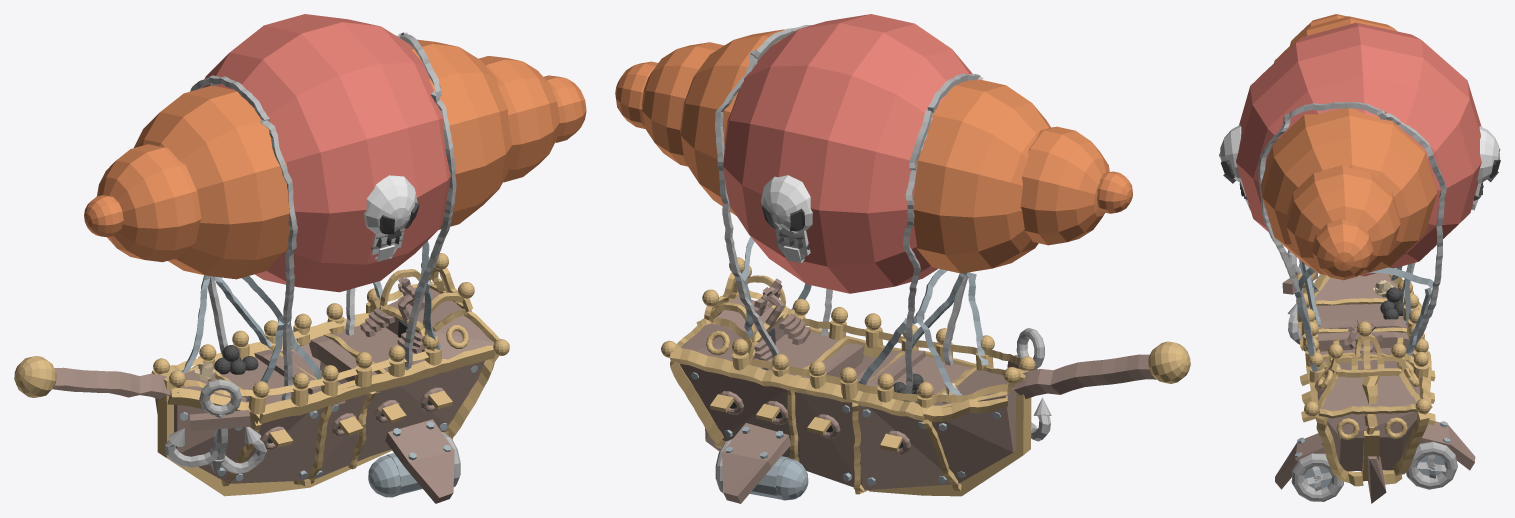
File: pirateShipFlyingModel_alone_zeroed.fbx
3 renders of one model, left to right at view 1: azimuth 30°, elevation 25°; view 2: azimuth 150°, elevation 25°; view 3: azimuth 270°, elevation 25°, orthographic. The views are drawn at different scales.
Visible parts, largest first — view 1: pirateShipFlyingModel_alone_zeroed; view 2: pirateShipFlyingModel_alone_zeroed; view 3: pirateShipFlyingModel_alone_zeroed.
Part boxes in pixels (bbox=[...]): pirateShipFlyingModel_alone_zeroed: bbox=[14, 14, 586, 503]; pirateShipFlyingModel_alone_zeroed: bbox=[615, 14, 1190, 503]; pirateShipFlyingModel_alone_zeroed: bbox=[1219, 14, 1500, 503].
Size of the model in its own units: 1.99 by 1.57 by 0.9486.
